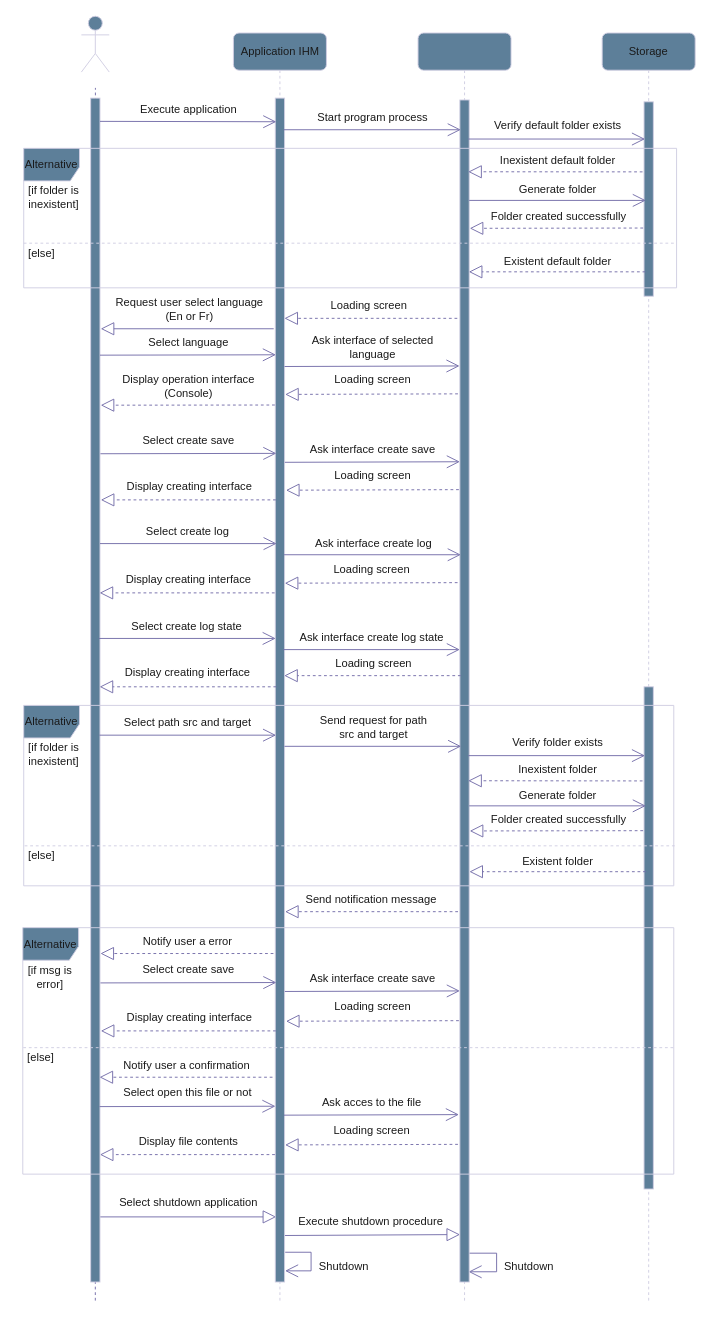
Image size: 711x1318. Some labels were removed from this diagram. The shapes that lost their labels are listed below. From the top down, each one's box as (x1, y1, x2, y2) in pixels, then its label:
(80, 15, 109, 72): user
(417, 32, 511, 1301): Application
